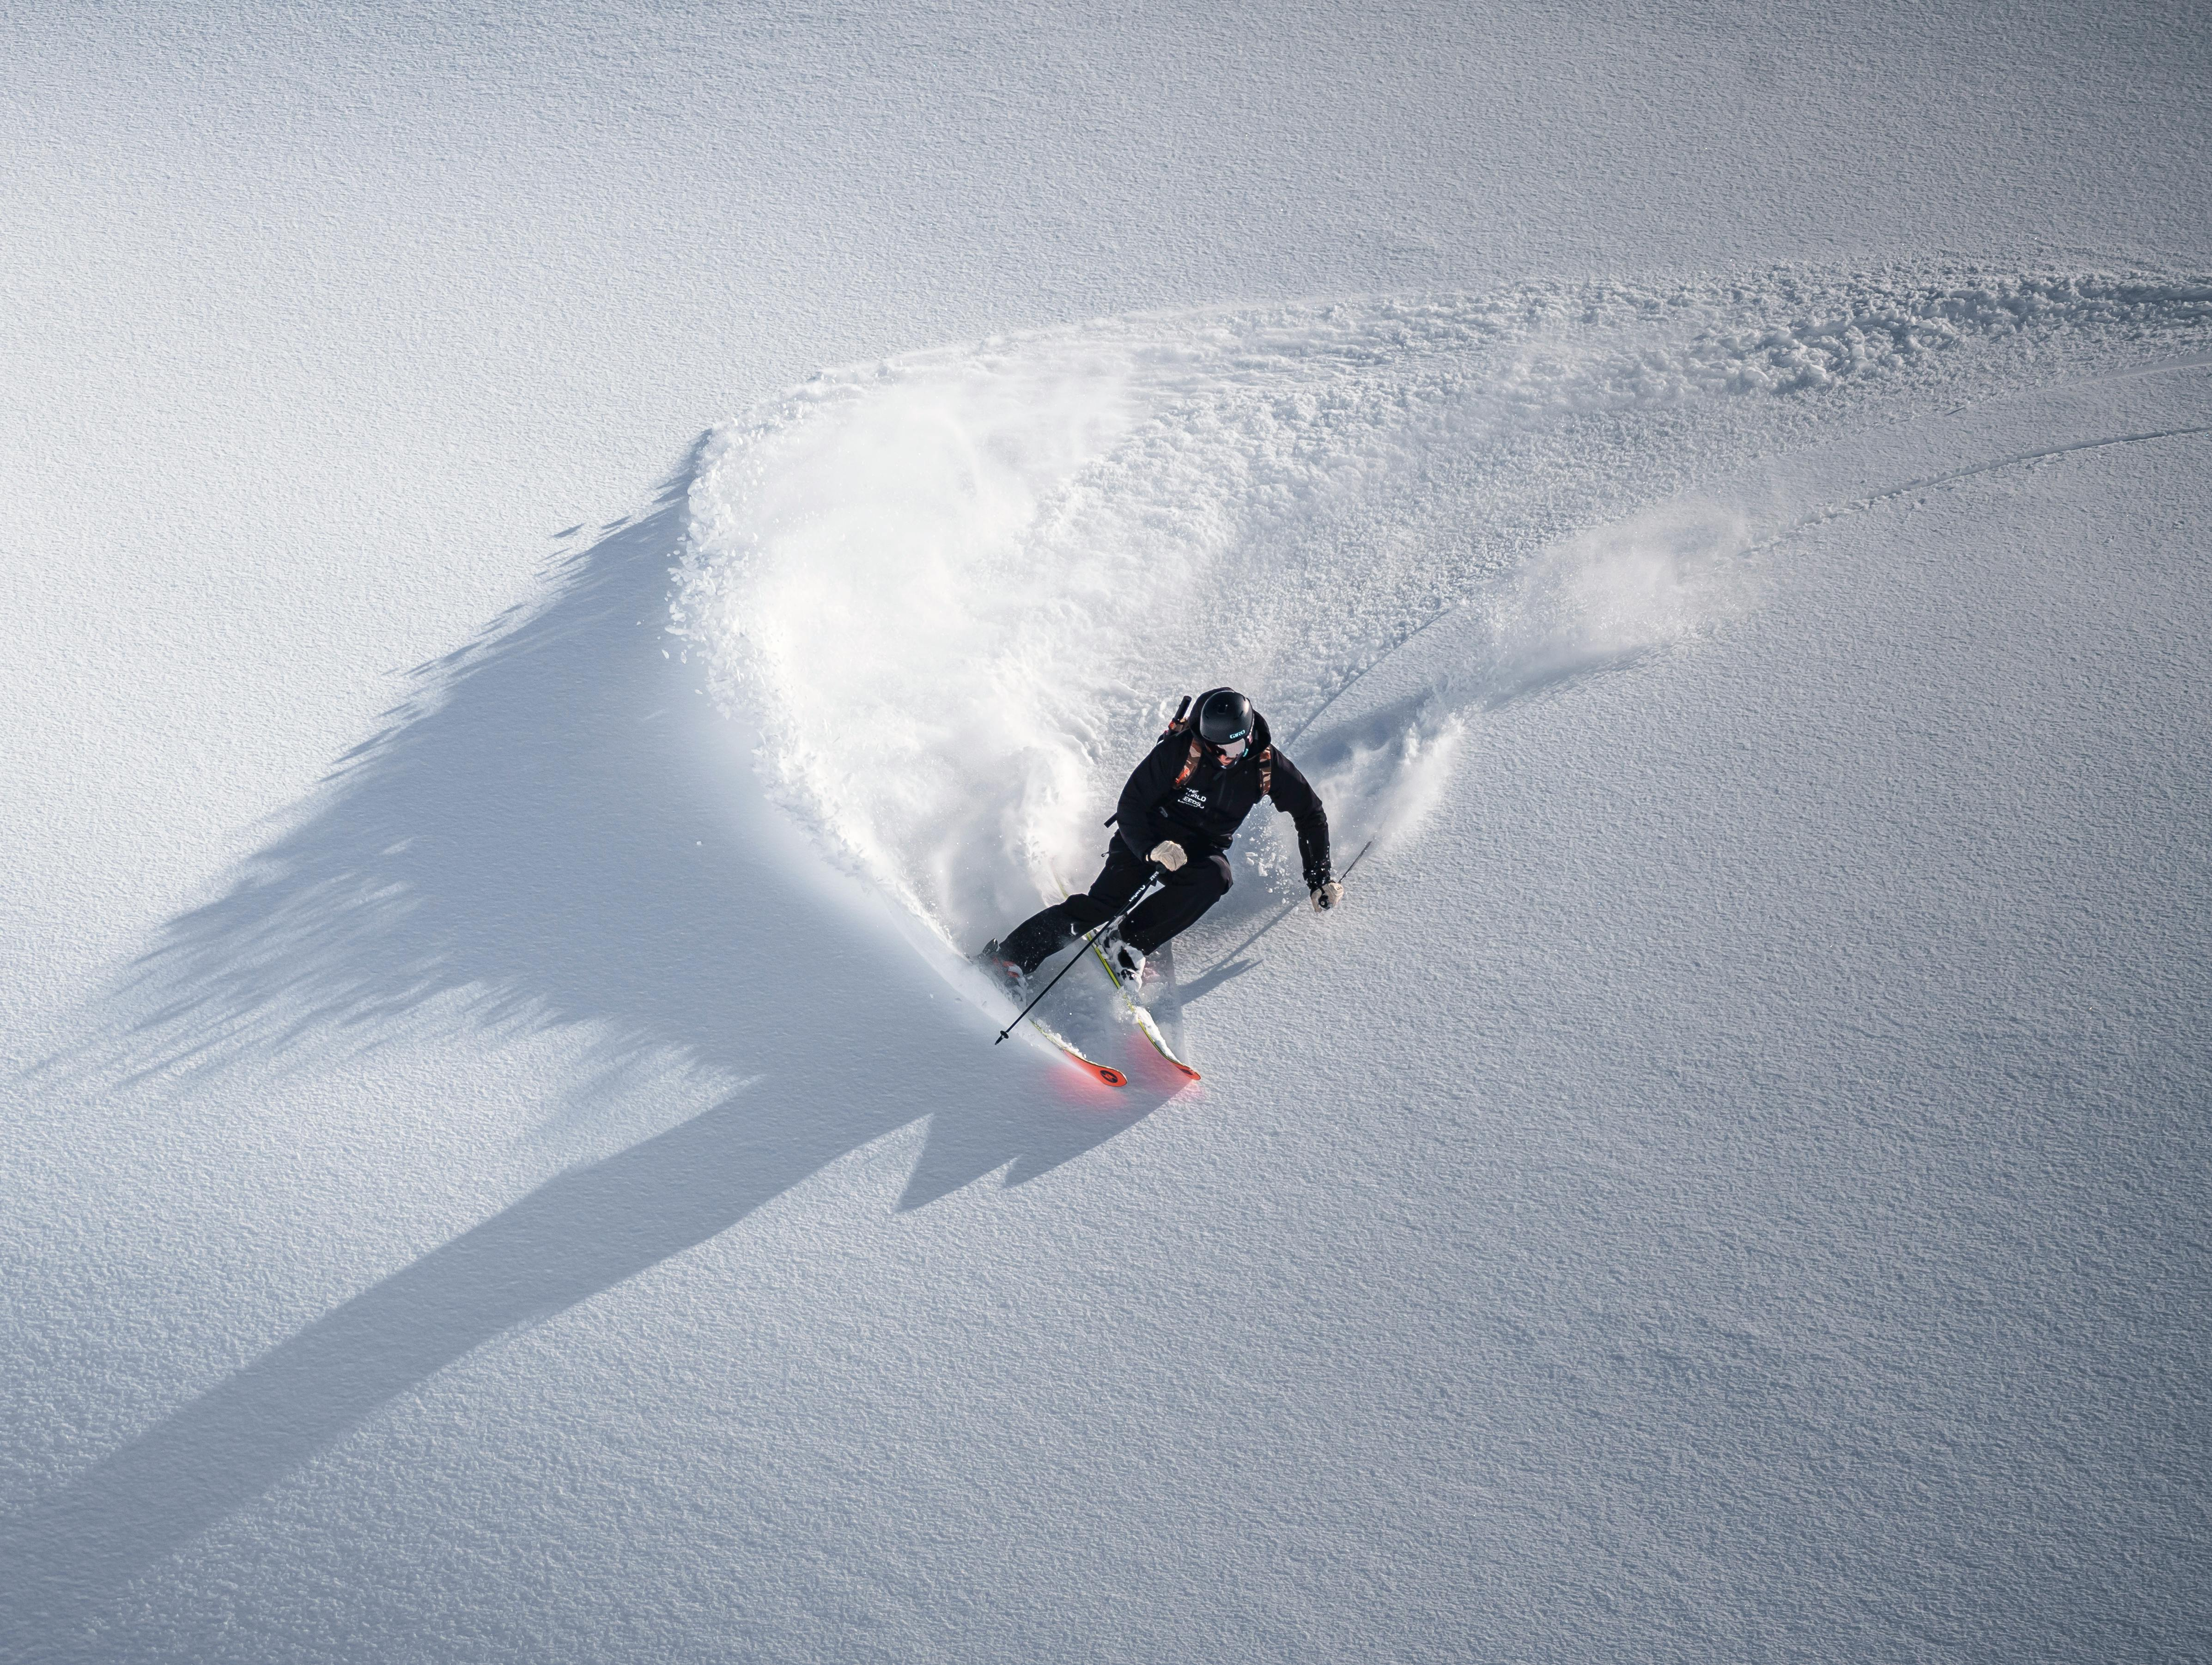capacete: (1194, 689, 1252, 754)
